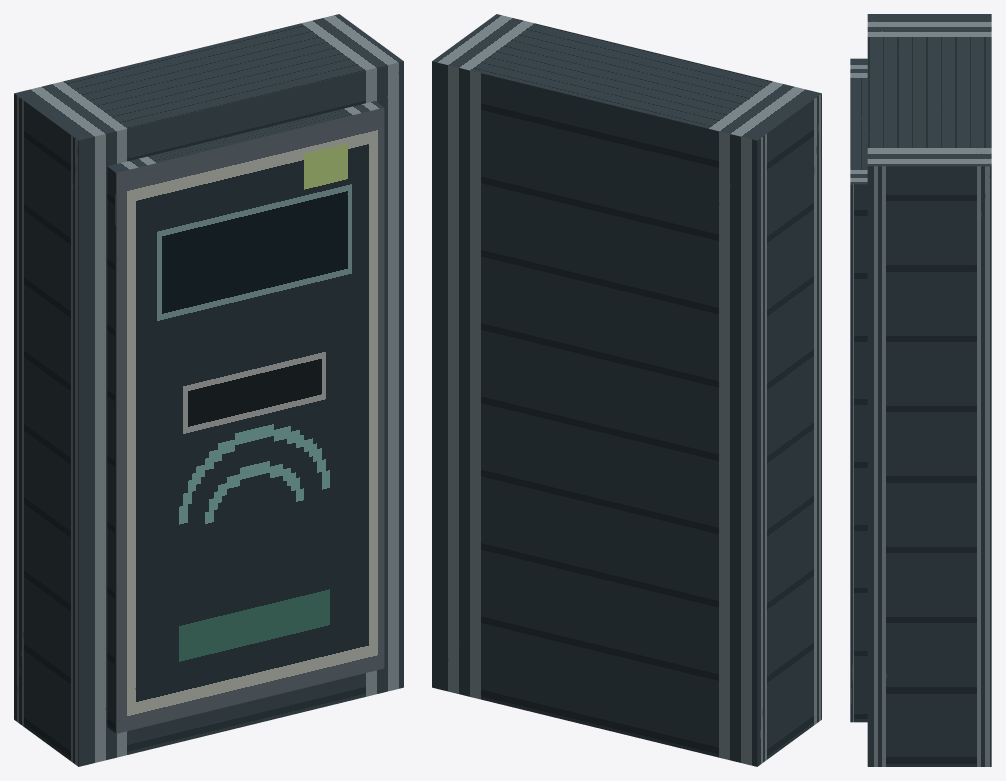
The model's file is lector_tarjeta.glb.
3 views of the same model, side by side, from view 1: azimuth 30°, elevation 25°; view 2: azimuth 150°, elevation 25°; view 3: azimuth 270°, elevation 25° (orthographic). The views are drawn at different scales.
Parts seen in each view (by area): view 1: PANEL_ACCESO; view 2: PANEL_ACCESO; view 3: PANEL_ACCESO.
Part boxes in pixels (x1,y1,x2,y2): PANEL_ACCESO: [14, 14, 403, 766]; PANEL_ACCESO: [432, 14, 821, 766]; PANEL_ACCESO: [850, 14, 991, 766].
Size of the model in its own units: 0.125 by 0.23 by 0.049.
1 material, 1 textured.
